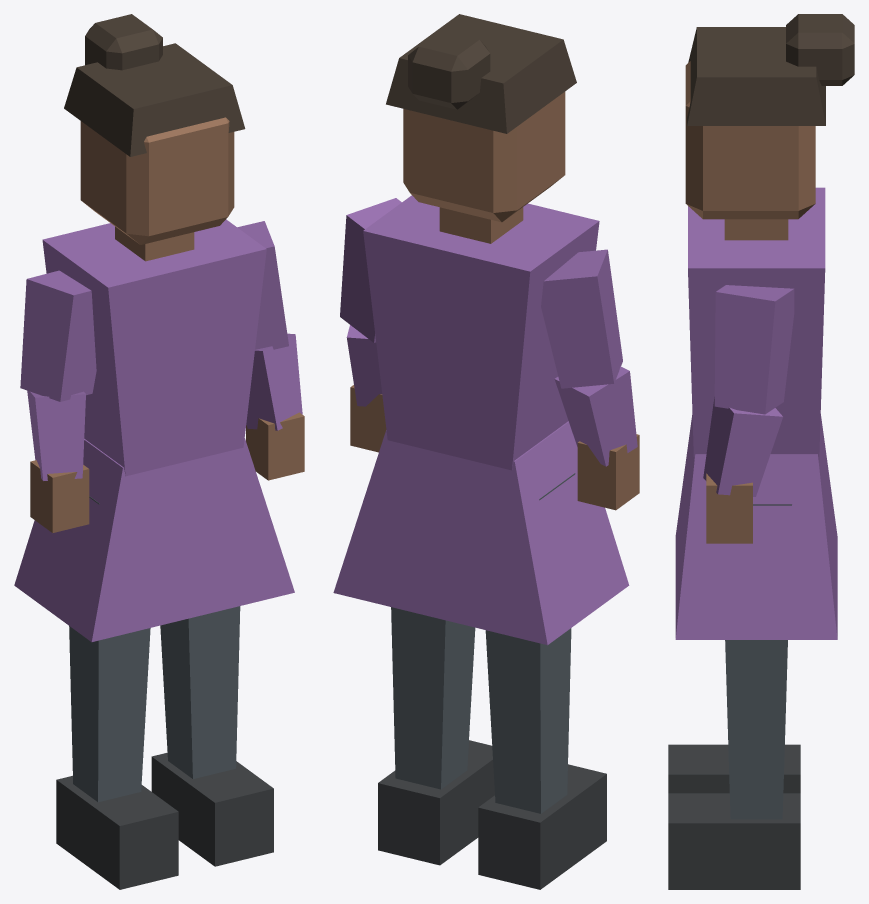
File: Citizen_Female_03_Purple_Skirt.fbx
3 views of the same model, side by side, from view 1: azimuth 30°, elevation 25°; view 2: azimuth 150°, elevation 25°; view 3: azimuth 270°, elevation 25° (orthographic). The views are drawn at different scales.
Visible parts, largest first — view 1: Citizen_Female_03_Purple_Skirt_Mesh; view 2: Citizen_Female_03_Purple_Skirt_Mesh; view 3: Citizen_Female_03_Purple_Skirt_Mesh.
Boxes of the visible parts, x1,y1,x2,y2 form: Citizen_Female_03_Purple_Skirt_Mesh: (14, 14, 304, 889); Citizen_Female_03_Purple_Skirt_Mesh: (333, 14, 639, 889); Citizen_Female_03_Purple_Skirt_Mesh: (668, 14, 854, 889).
Size of the model in its own units: 55.45 by 161 by 32.89.
